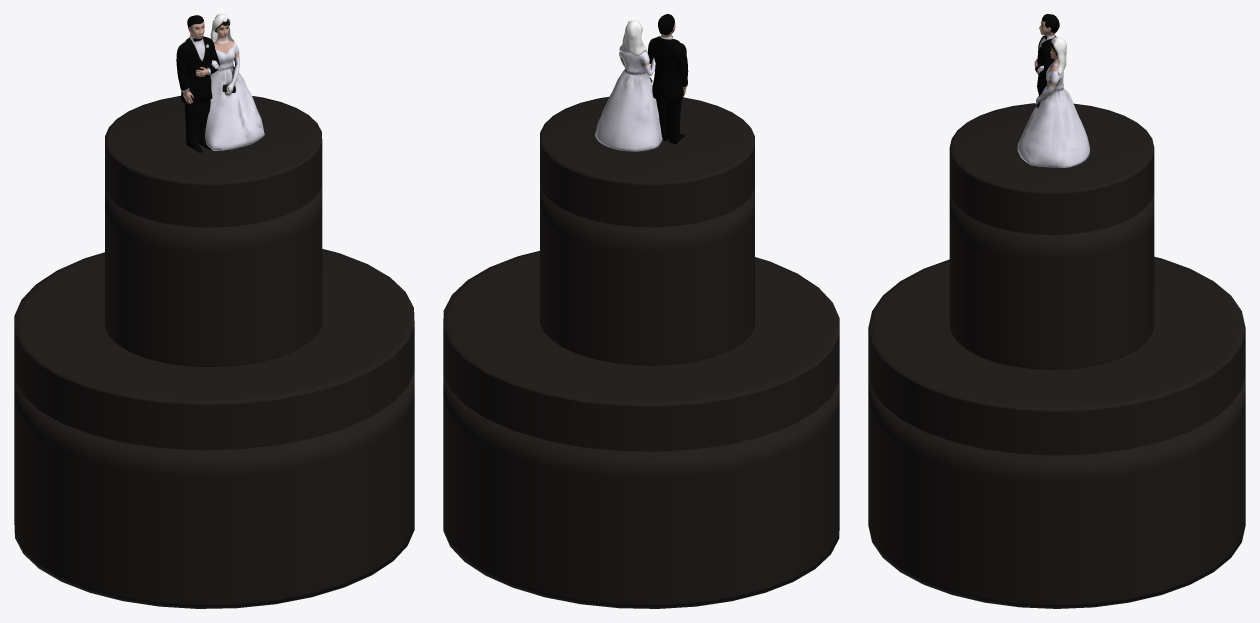
File: 2-tier-black-none-bridegroom.glb
The picture shows the model from 3 angles, left to right: view 1: azimuth 30°, elevation 25°; view 2: azimuth 150°, elevation 25°; view 3: azimuth 270°, elevation 25°; orthographic projection. The views are drawn at different scales.
Parts seen in each view (by area): view 1: Cylinder.023, Cylinder.013, 13501_Cake_Topper_Bride_Groom_v1_L1.003; view 2: Cylinder.023, Cylinder.013, 13501_Cake_Topper_Bride_Groom_v1_L1.003; view 3: Cylinder.023, Cylinder.013, 13501_Cake_Topper_Bride_Groom_v1_L1.003.
Boxes of the visible parts, bbox=[...] form: Cylinder.023: bbox=[14, 249, 414, 608]; Cylinder.013: bbox=[105, 96, 322, 366]; 13501_Cake_Topper_Bride_Groom_v1_L1.003: bbox=[176, 14, 264, 152]; Cylinder.023: bbox=[443, 251, 839, 608]; Cylinder.013: bbox=[540, 97, 754, 365]; 13501_Cake_Topper_Bride_Groom_v1_L1.003: bbox=[595, 14, 688, 151]; Cylinder.023: bbox=[868, 256, 1245, 608]; Cylinder.013: bbox=[949, 103, 1154, 369]; 13501_Cake_Topper_Bride_Groom_v1_L1.003: bbox=[1017, 14, 1089, 167].
Bounding box in the file's own units: 3.4 × 4.79 × 3.27.
2 materials, 1 textured.
